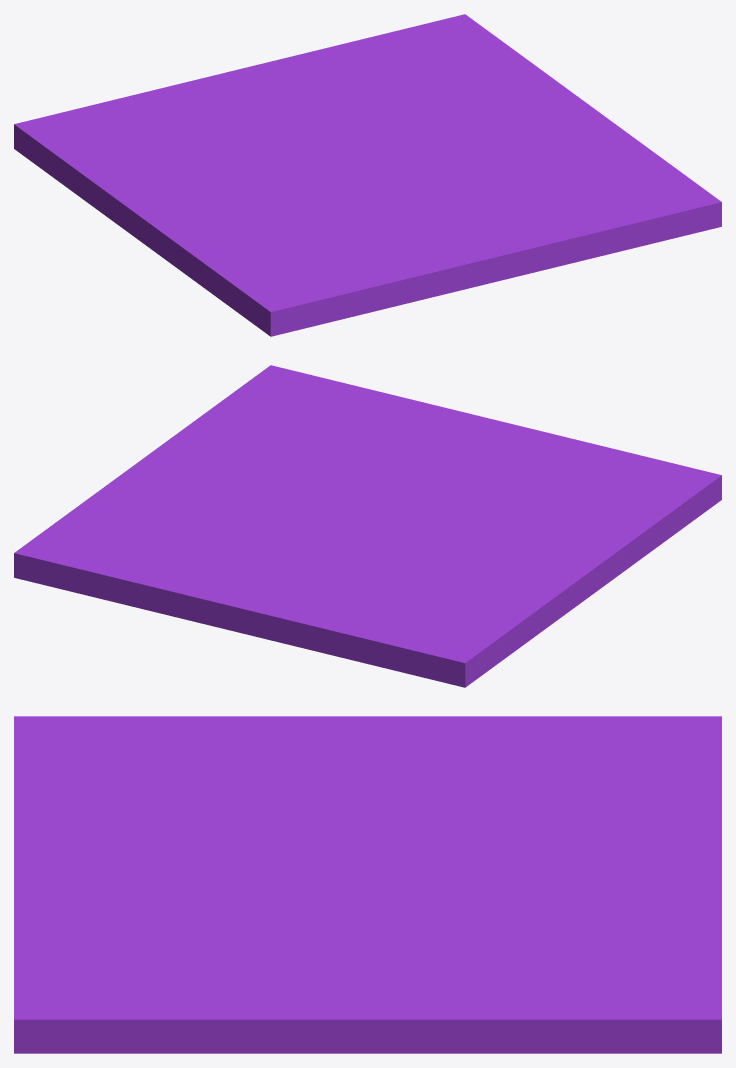
Rendered from Window_169_chunks.fbx.
3 views of the same model, one above another, from view 1: azimuth 30°, elevation 25°; view 2: azimuth 150°, elevation 25°; view 3: azimuth 270°, elevation 25° (orthographic). The views are drawn at different scales.
Visible parts, largest first — view 1: Window_169_23, Window_169_8, Window_169_36, Window_169_22, Window_169_13, Window_169_30, Window_169_40, Window_169_33, Window_169_6, Window_169_0, Window_169_14, Window_169_10 (+23 smaller); view 2: Window_169_13, Window_169_36, Window_169_8, Window_169_14, Window_169_34, Window_169_30, Window_169_33, Window_169_23, Window_169_6, Window_169_0, Window_169_10, Window_169_9 (+22 smaller); view 3: Window_169_30, Window_169_36, Window_169_33, Window_169_8, Window_169_13, Window_169_23, Window_169_6, Window_169_0, Window_169_14, Window_169_10, Window_169_40, Window_169_5 (+25 smaller).
Part boxes in pixels (bbox=[...]): Window_169_23: bbox=[349, 229, 510, 311]; Window_169_8: bbox=[50, 151, 208, 242]; Window_169_36: bbox=[215, 56, 384, 119]; Window_169_22: bbox=[231, 263, 374, 336]; Window_169_13: bbox=[14, 98, 173, 177]; Window_169_30: bbox=[543, 144, 721, 216]; Window_169_40: bbox=[472, 194, 594, 278]; Window_169_33: bbox=[427, 23, 522, 114]; Window_169_6: bbox=[288, 114, 509, 165]; Window_169_0: bbox=[252, 130, 362, 220]; Window_169_14: bbox=[122, 75, 288, 126]; Window_169_10: bbox=[148, 192, 301, 246]; Window_169_13: bbox=[355, 599, 505, 687]; Window_169_36: bbox=[173, 538, 318, 635]; Window_169_8: bbox=[441, 558, 599, 657]; Window_169_14: bbox=[251, 564, 389, 660]; Window_169_34: bbox=[14, 552, 199, 622]; Window_169_30: bbox=[191, 365, 328, 450]; Window_169_33: bbox=[26, 491, 222, 544]; Window_169_23: bbox=[453, 419, 640, 472]; Window_169_6: bbox=[277, 467, 375, 564]; Window_169_0: bbox=[332, 510, 517, 553]; Window_169_10: bbox=[500, 507, 608, 565]; Window_169_9: bbox=[586, 504, 684, 593]; Window_169_30: bbox=[14, 946, 269, 1053]; Window_169_36: bbox=[524, 851, 721, 933]; Window_169_33: bbox=[430, 944, 691, 1053]; Window_169_8: bbox=[353, 716, 619, 785]; Window_169_13: bbox=[543, 716, 721, 795]; Window_169_23: bbox=[14, 770, 137, 873]; Window_169_6: bbox=[297, 857, 545, 946]; Window_169_0: bbox=[252, 795, 503, 863]; Window_169_14: bbox=[537, 789, 721, 857]; Window_169_10: bbox=[199, 716, 395, 796]; Window_169_40: bbox=[14, 870, 151, 950]; Window_169_5: bbox=[143, 786, 318, 887].
Size of the model in its own units: 1165 by 60.81 by 1149.
